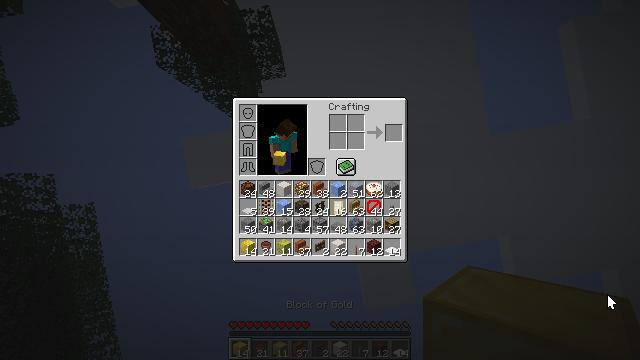cursor: (607, 294, 617, 310)
